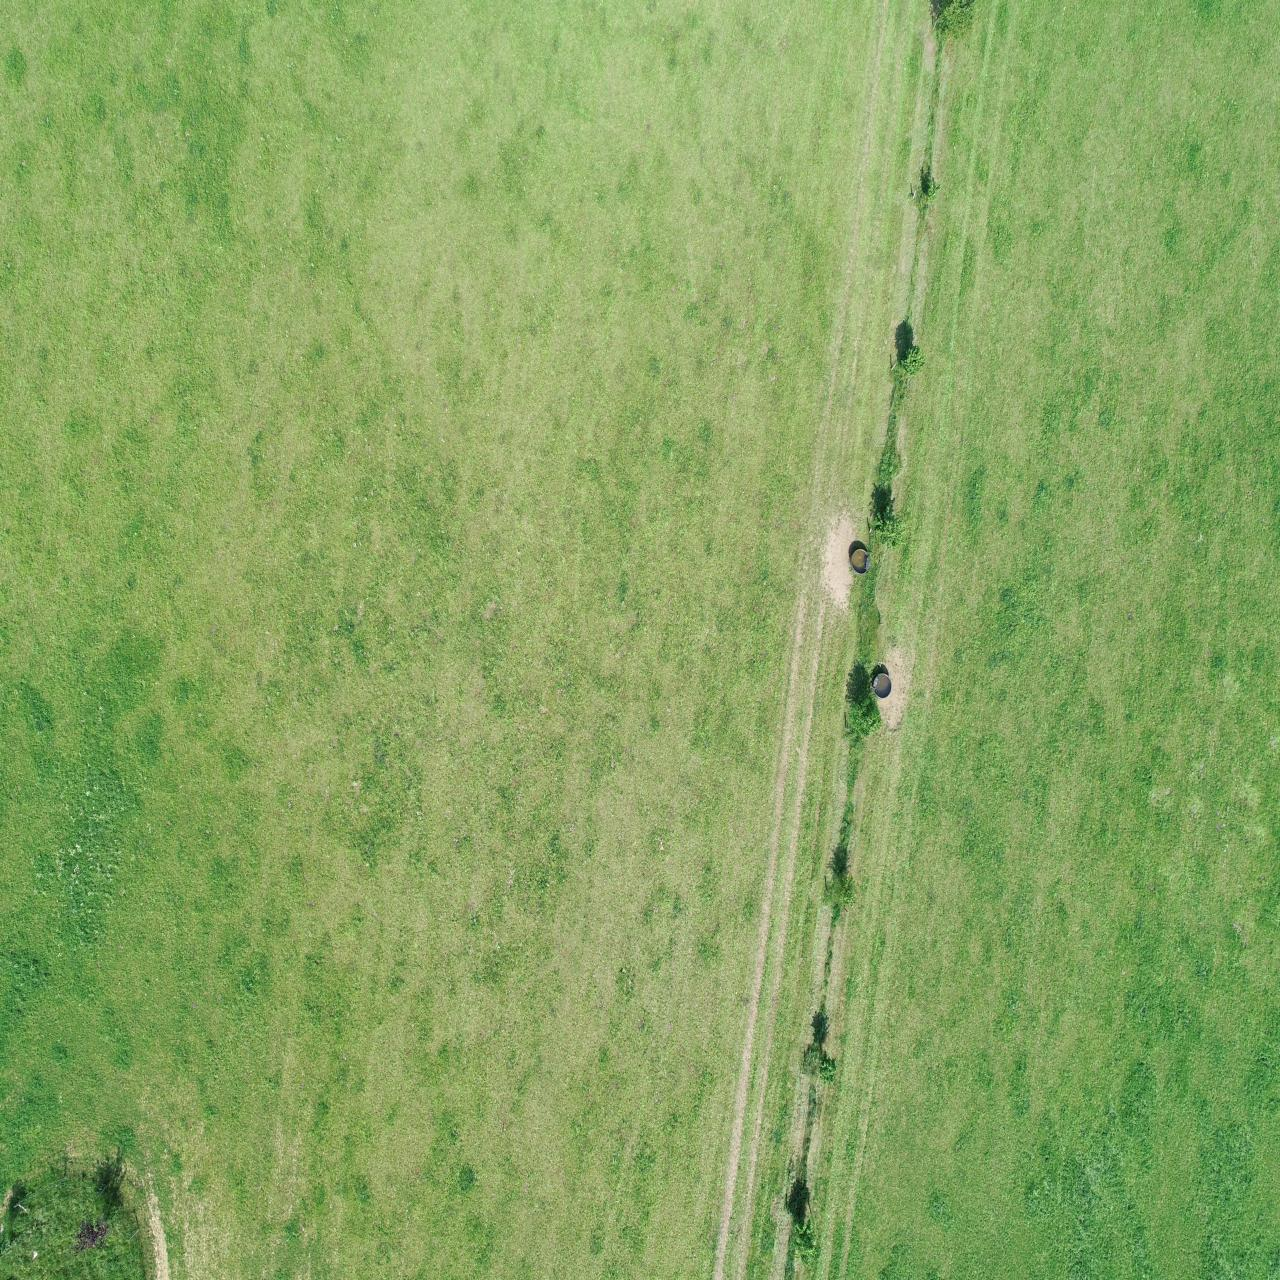cow: (18, 675, 72, 731), (53, 538, 114, 581), (54, 606, 109, 653), (200, 354, 232, 431), (73, 266, 104, 342), (41, 1096, 105, 1132), (39, 937, 101, 974), (840, 1142, 893, 1183), (131, 552, 191, 587), (104, 1167, 159, 1205), (101, 421, 148, 463)
